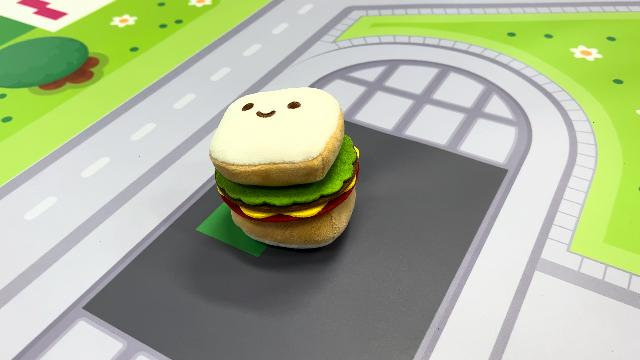sandwich: (208, 84, 362, 250)
